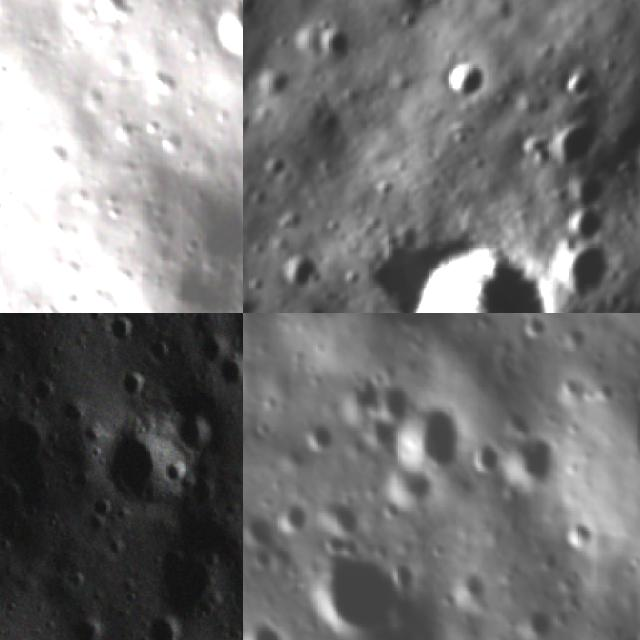crater: (369, 189, 588, 313), (311, 540, 409, 640), (527, 96, 616, 187), (545, 225, 633, 311), (96, 432, 189, 512), (426, 40, 505, 120), (155, 545, 233, 626), (392, 399, 471, 476), (502, 424, 574, 498), (268, 235, 338, 302), (304, 7, 370, 73), (554, 190, 618, 253), (616, 347, 640, 514), (172, 410, 227, 461), (317, 491, 366, 546), (332, 365, 388, 413), (201, 0, 243, 63), (448, 558, 497, 611), (379, 375, 434, 422), (294, 411, 344, 462), (276, 490, 324, 541), (513, 599, 567, 640), (243, 499, 281, 556), (86, 0, 140, 35), (243, 609, 294, 640), (562, 513, 599, 552), (139, 330, 175, 368), (138, 614, 184, 640), (516, 313, 558, 341), (67, 611, 106, 640), (216, 355, 243, 396), (118, 369, 150, 402), (107, 313, 135, 349)
